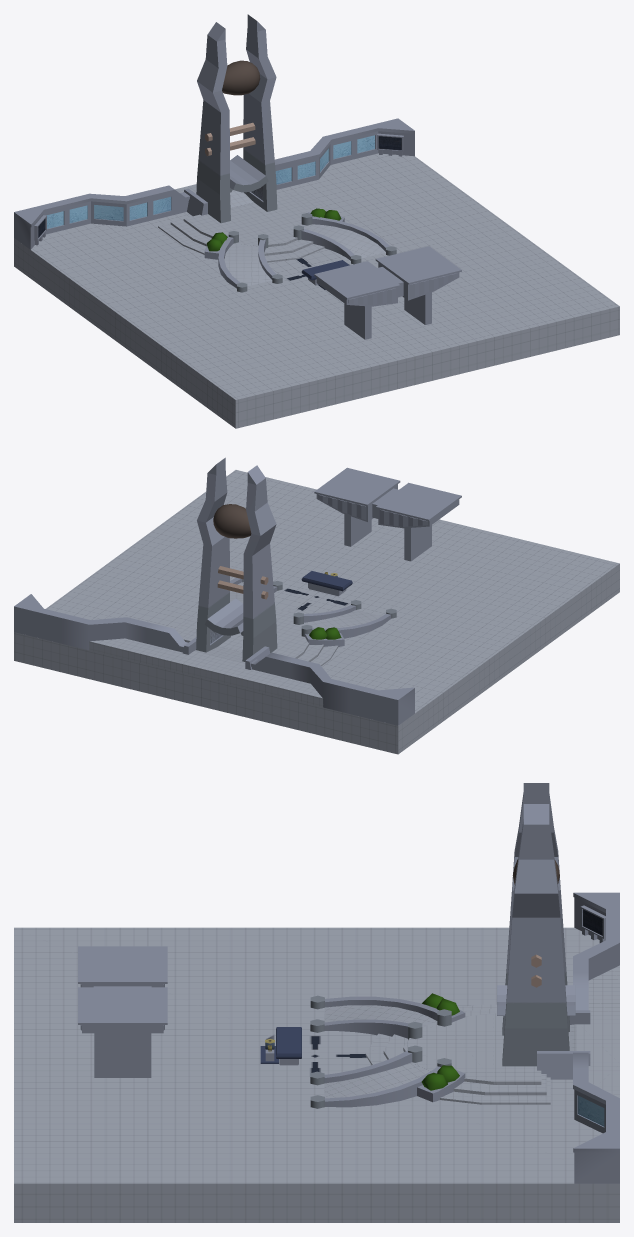
Rendered from may18-cemetery.glb.
The picture shows the model from 3 angles, top to bottom: view 1: azimuth 30°, elevation 25°; view 2: azimuth 150°, elevation 25°; view 3: azimuth 270°, elevation 25°; orthographic projection. The views are drawn at different scales.
Visible parts, largest first — view 1: a1; view 2: a1; view 3: a1.
Boxes of the visible parts, box(x1,y1,x2,y2) form: a1: box(14, 14, 619, 428); a1: box(14, 457, 619, 754); a1: box(14, 783, 619, 1222).
Size of the model in its own units: 140 by 76.81 by 140.
Materials: 1 (1 with a texture image).
